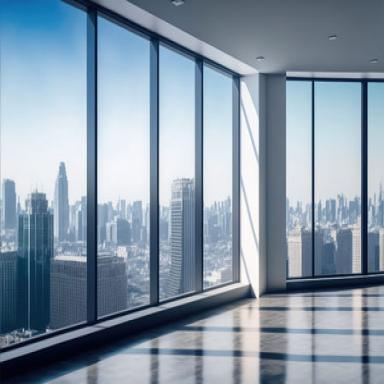glass_panel: (3, 2, 86, 340), (97, 16, 150, 314), (160, 44, 197, 298), (316, 82, 361, 275), (204, 64, 233, 288), (286, 80, 310, 278), (240, 79, 258, 292), (368, 84, 384, 272)
